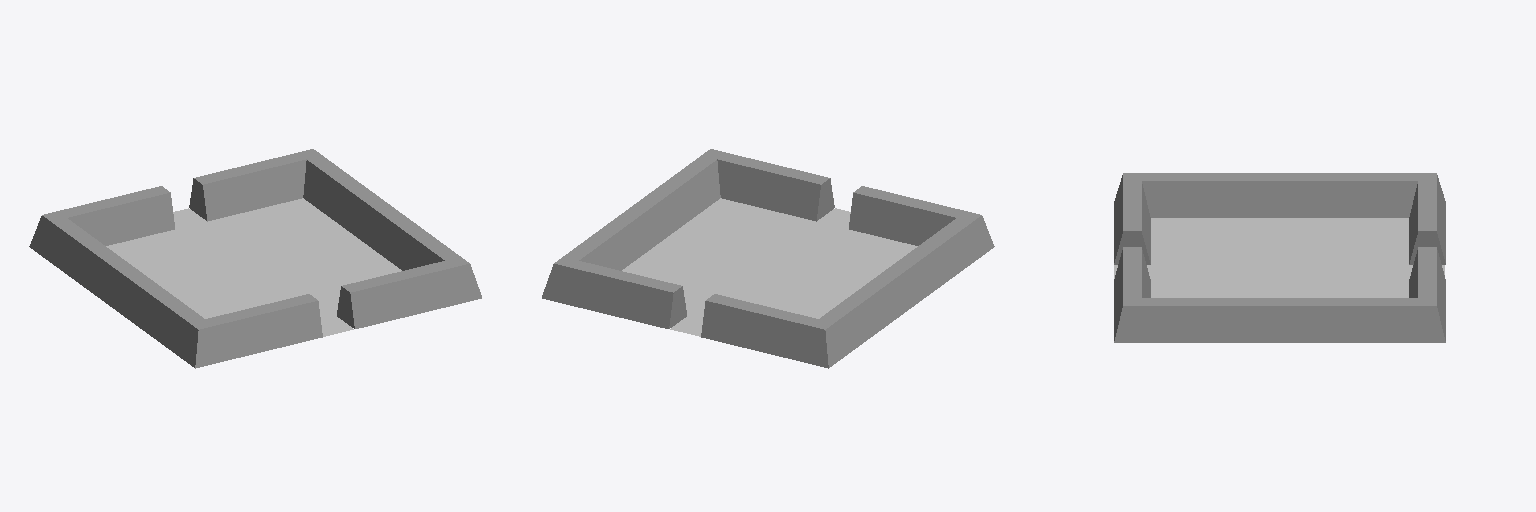
Rendered from sala_9.obj.
3 renders of one model, left to right at view 1: azimuth 30°, elevation 25°; view 2: azimuth 150°, elevation 25°; view 3: azimuth 270°, elevation 25°, orthographic.
Visible parts, largest first — view 1: Ground_Plane.001, Wall.000_Cube.011, Wall.007_Cube.017, Wall.002_Cube.014, Wall.004_Cube.015, Wall.006_Cube.016, Wall.005_Cube.002, Wall.003_Cube.010, Wall.001_Cube.012, Plane.001_Plane.007, Plane.002_Plane.008; view 2: Ground_Plane.001, Wall.002_Cube.014, Wall.005_Cube.002, Wall.000_Cube.011, Wall.006_Cube.016, Wall.004_Cube.015, Wall.007_Cube.017, Wall.001_Cube.012, Wall.003_Cube.010, Plane.002_Plane.008, Plane.001_Plane.007; view 3: Ground_Plane.001, Wall.003_Cube.010, Wall.001_Cube.012, Wall.004_Cube.015, Wall.006_Cube.016, Wall.005_Cube.002, Wall.007_Cube.017, Wall.000_Cube.011, Wall.002_Cube.014.
Part boxes in pixels (left/top/right/bottom): Ground_Plane.001: left=106, top=198, right=401, bottom=318; Wall.000_Cube.011: left=337, top=261, right=481, bottom=328; Wall.007_Cube.017: left=195, top=294, right=322, bottom=368; Wall.002_Cube.014: left=189, top=149, right=312, bottom=221; Wall.004_Cube.015: left=29, top=215, right=135, bottom=306; Wall.006_Cube.016: left=112, top=269, right=204, bottom=367; Wall.005_Cube.002: left=44, top=186, right=174, bottom=245; Wall.003_Cube.010: left=303, top=149, right=390, bottom=244; Wall.001_Cube.012: left=368, top=206, right=468, bottom=270; Plane.001_Plane.007: left=173, top=208, right=216, bottom=236; Plane.002_Plane.008: left=320, top=309, right=353, bottom=336; Ground_Plane.001: left=622, top=198, right=917, bottom=318; Wall.002_Cube.014: left=542, top=261, right=686, bottom=328; Wall.005_Cube.002: left=701, top=294, right=828, bottom=368; Wall.000_Cube.011: left=711, top=149, right=834, bottom=221; Wall.006_Cube.016: left=888, top=215, right=994, bottom=306; Wall.004_Cube.015: left=819, top=269, right=911, bottom=367; Wall.007_Cube.017: left=849, top=186, right=979, bottom=245; Wall.001_Cube.012: left=633, top=149, right=720, bottom=244; Wall.003_Cube.010: left=555, top=206, right=655, bottom=270; Plane.002_Plane.008: left=807, top=208, right=850, bottom=236; Plane.001_Plane.007: left=670, top=308, right=703, bottom=336; Ground_Plane.001: left=1151, top=218, right=1408, bottom=297; Wall.003_Cube.010: left=1280, top=298, right=1445, bottom=342; Wall.001_Cube.012: left=1114, top=298, right=1279, bottom=342; Wall.004_Cube.015: left=1280, top=173, right=1435, bottom=217; Wall.006_Cube.016: left=1124, top=173, right=1279, bottom=217; Wall.005_Cube.002: left=1409, top=173, right=1445, bottom=264; Wall.007_Cube.017: left=1114, top=173, right=1150, bottom=264; Wall.000_Cube.011: left=1114, top=247, right=1150, bottom=340; Wall.002_Cube.014: left=1409, top=247, right=1445, bottom=340.
Size of the model in its own units: 18 by 2 by 18.